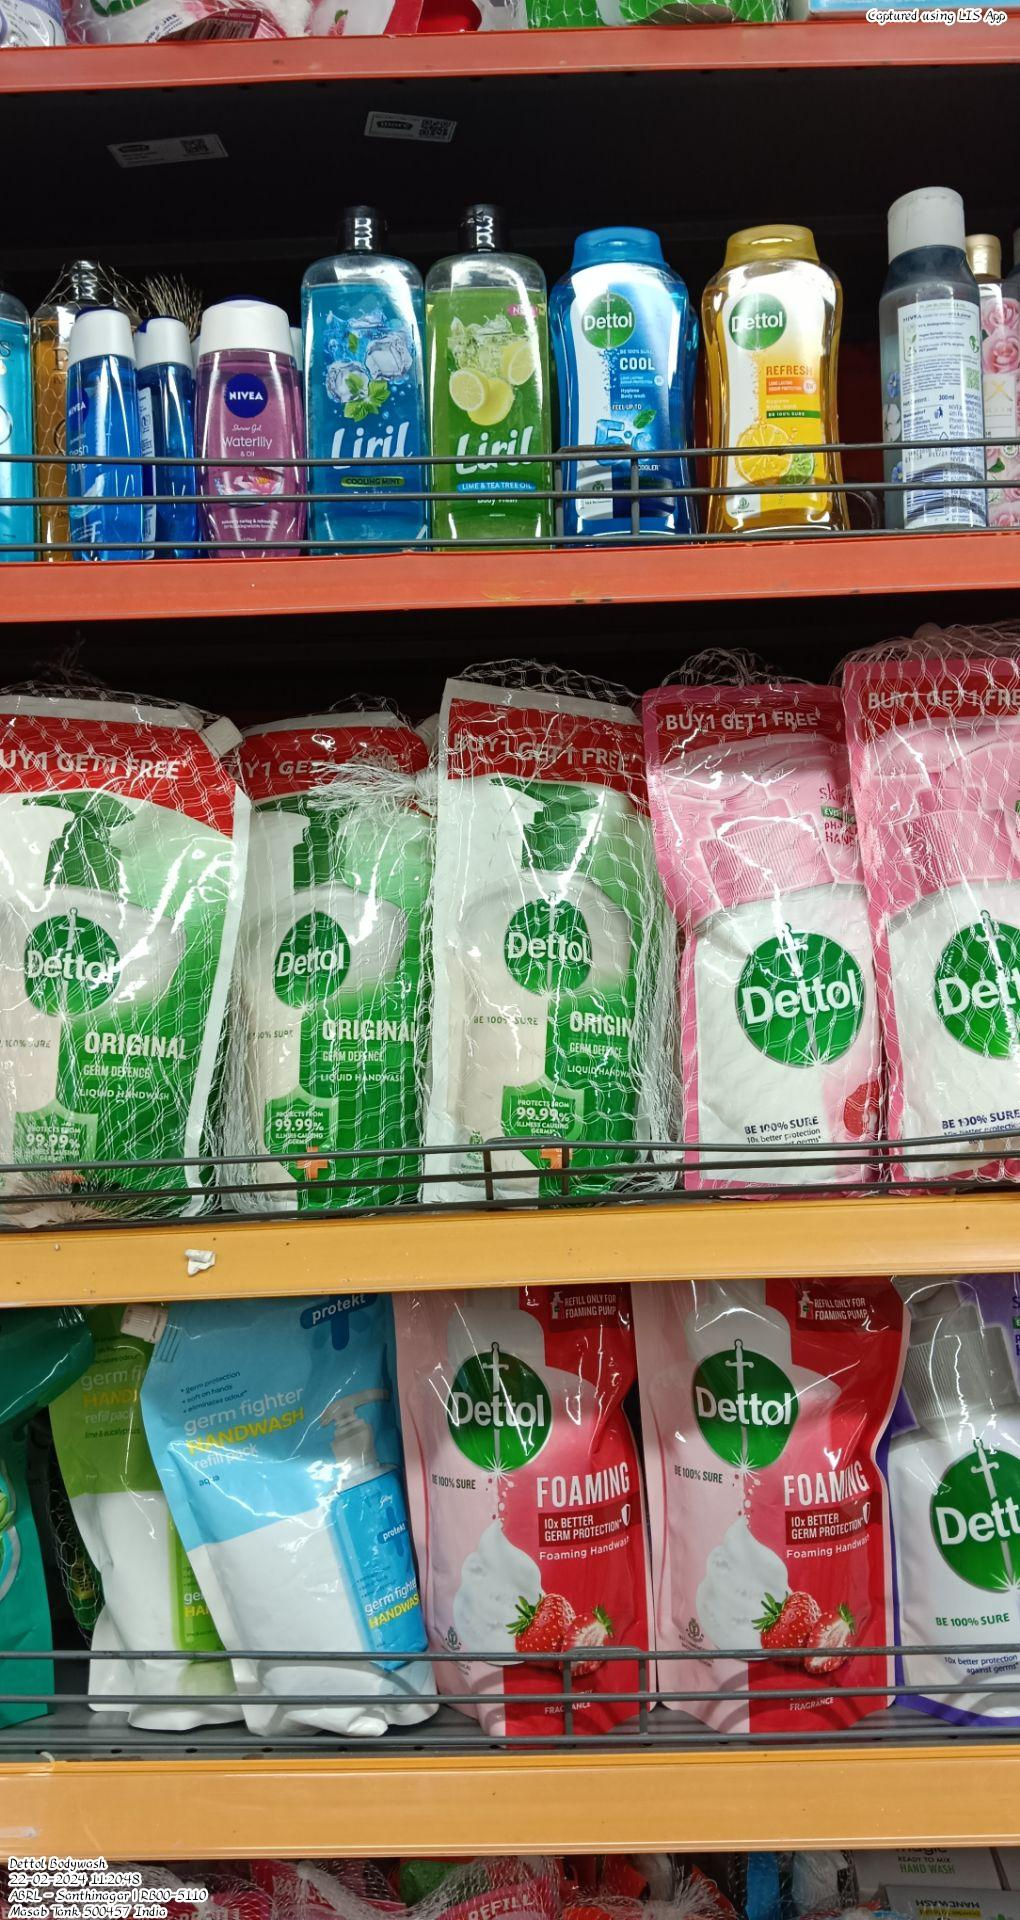Dettol_Bodywash_Cool: (550, 222, 692, 535)
Dettol_Bodywash_Refresh: (708, 230, 860, 532)
Liril_Cooling_Mint_Body_Wash_250ML: (304, 206, 428, 552)
Liril_Lime_and_Tea_Tree_Oil_Body_Wash_250ML: (431, 201, 553, 546)
Nivea_Shower_Gel_Waterlily_and_Oil_250ML: (194, 302, 304, 554)
